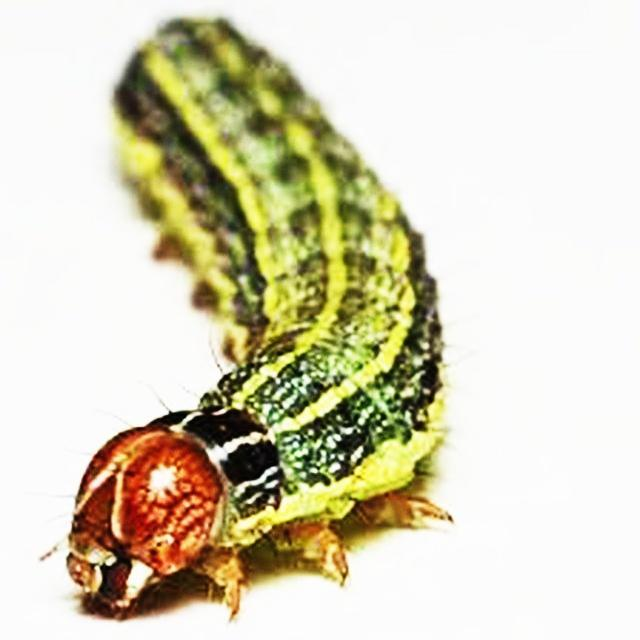worm: (41, 15, 456, 623)
